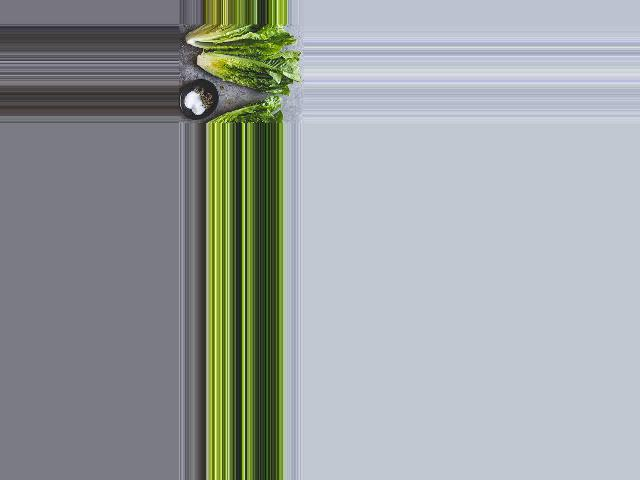lettuce: (178, 24, 287, 53)
